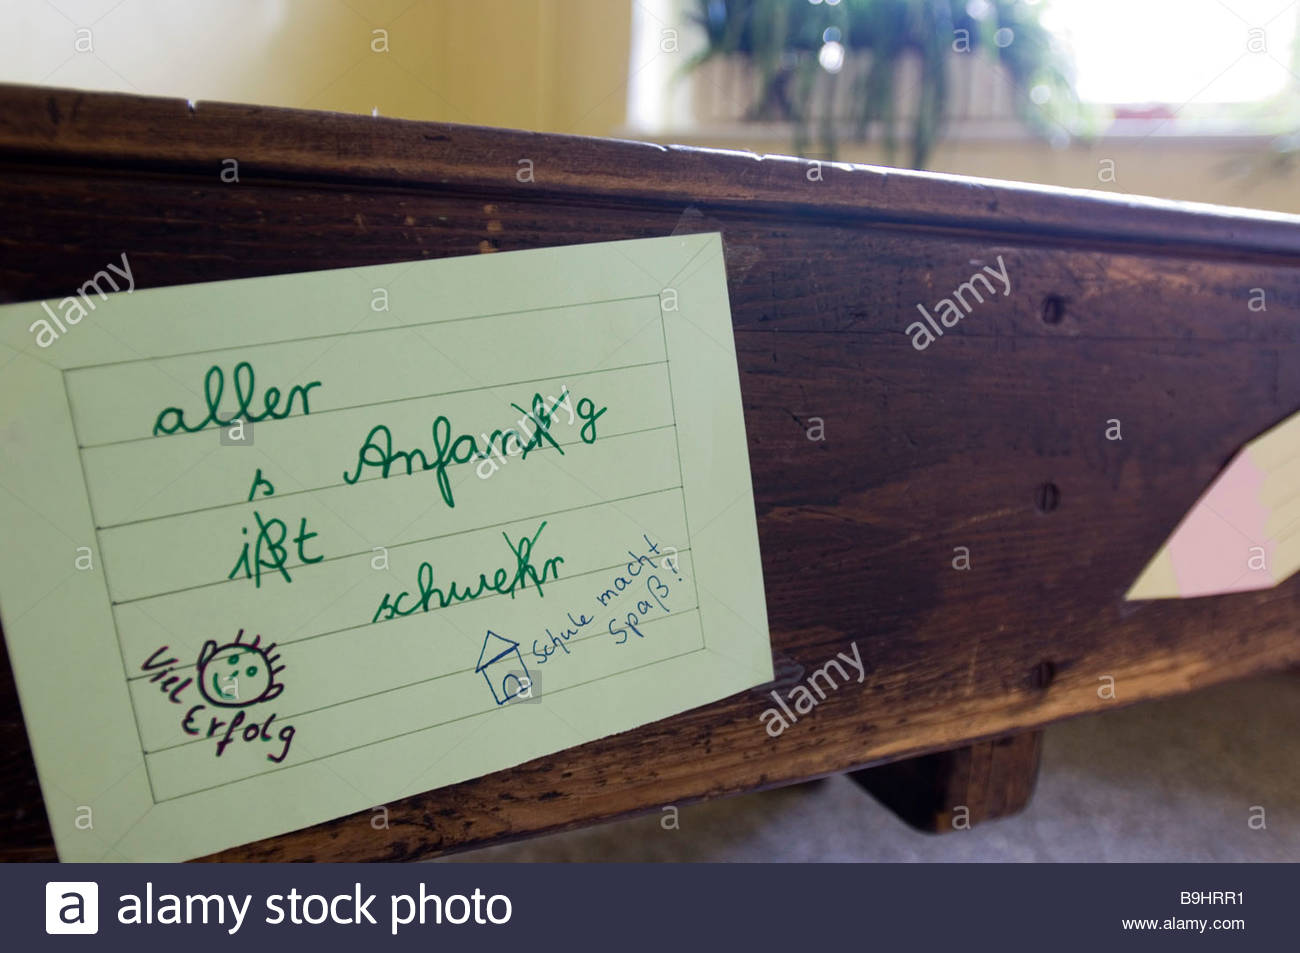Note: (1, 237, 777, 855)
